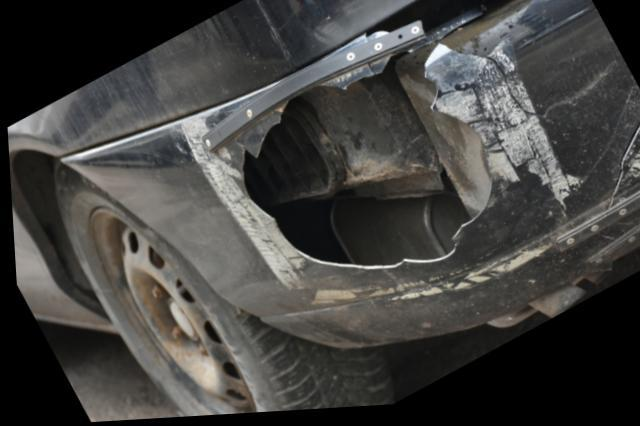crack: (233, 0, 532, 274), (606, 126, 640, 219)
rub: (179, 116, 300, 294)
